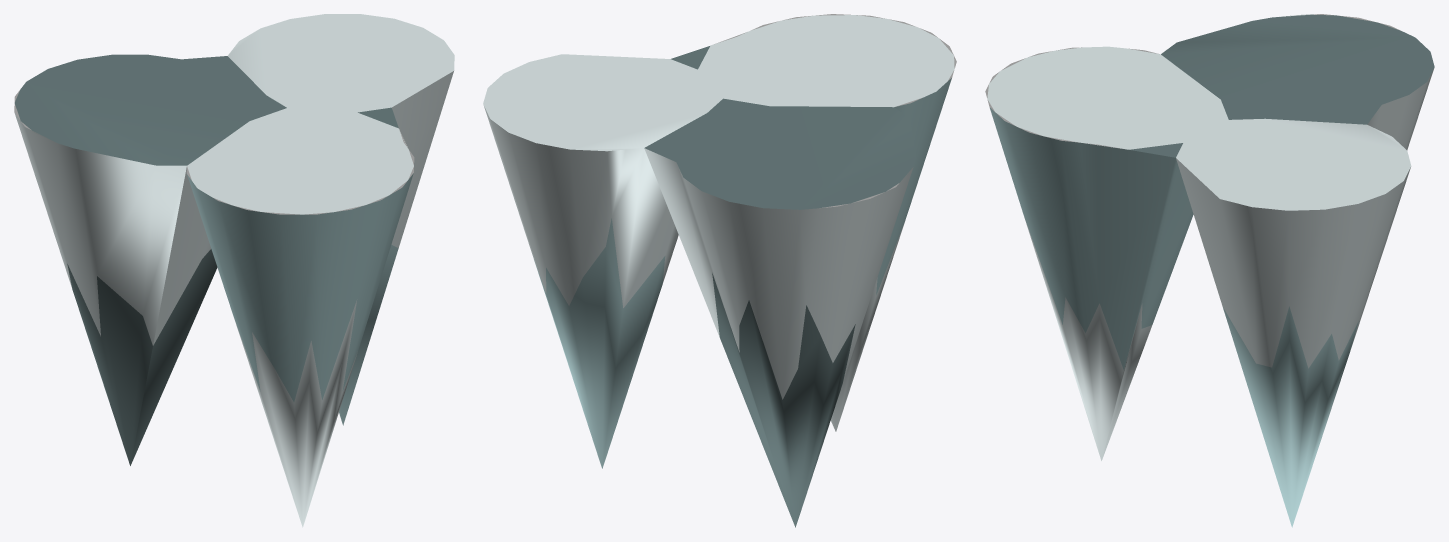
The model's file is Ice Spike V1.fbx.
3 renders of one model, left to right at view 1: azimuth 30°, elevation 25°; view 2: azimuth 150°, elevation 25°; view 3: azimuth 270°, elevation 25°, orthographic.
Visible parts, largest first — view 1: pasted__polySurface5; view 2: pasted__polySurface5; view 3: pasted__polySurface5.
Boxes of the visible parts, x1,y1,x2,y2 form: pasted__polySurface5: (14, 14, 454, 527); pasted__polySurface5: (483, 14, 956, 527); pasted__polySurface5: (985, 14, 1434, 527).
Size of the model in its own units: 9.45 by 8.15 by 9.07.
